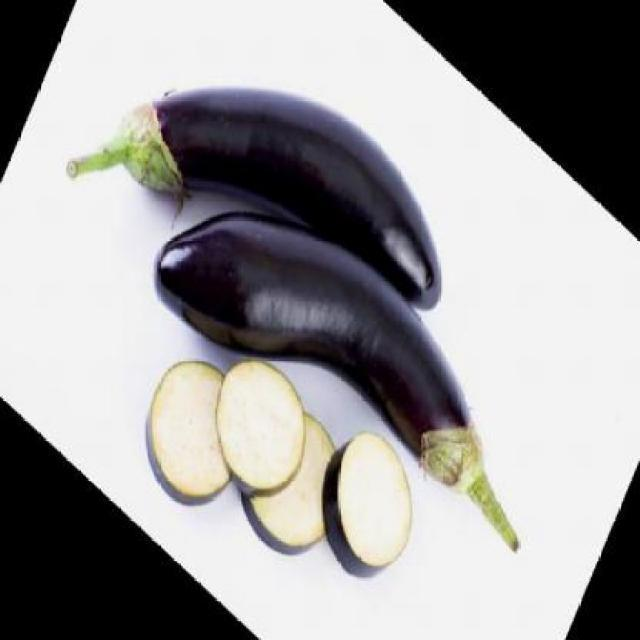eggplant: (152, 205, 526, 561), (66, 80, 443, 316), (126, 330, 262, 536), (298, 407, 432, 607), (226, 386, 357, 582), (196, 337, 324, 525)
